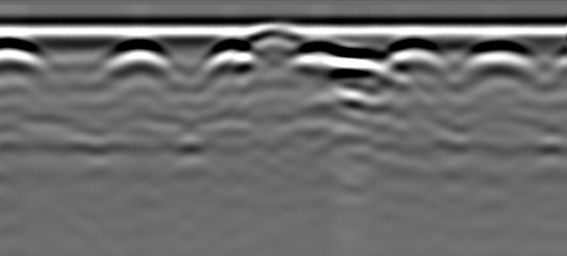pipe: (248, 23, 297, 49)
steel: (468, 35, 528, 76), (110, 41, 166, 79), (386, 38, 441, 76), (208, 37, 254, 79), (1, 38, 42, 77), (293, 39, 338, 73)
